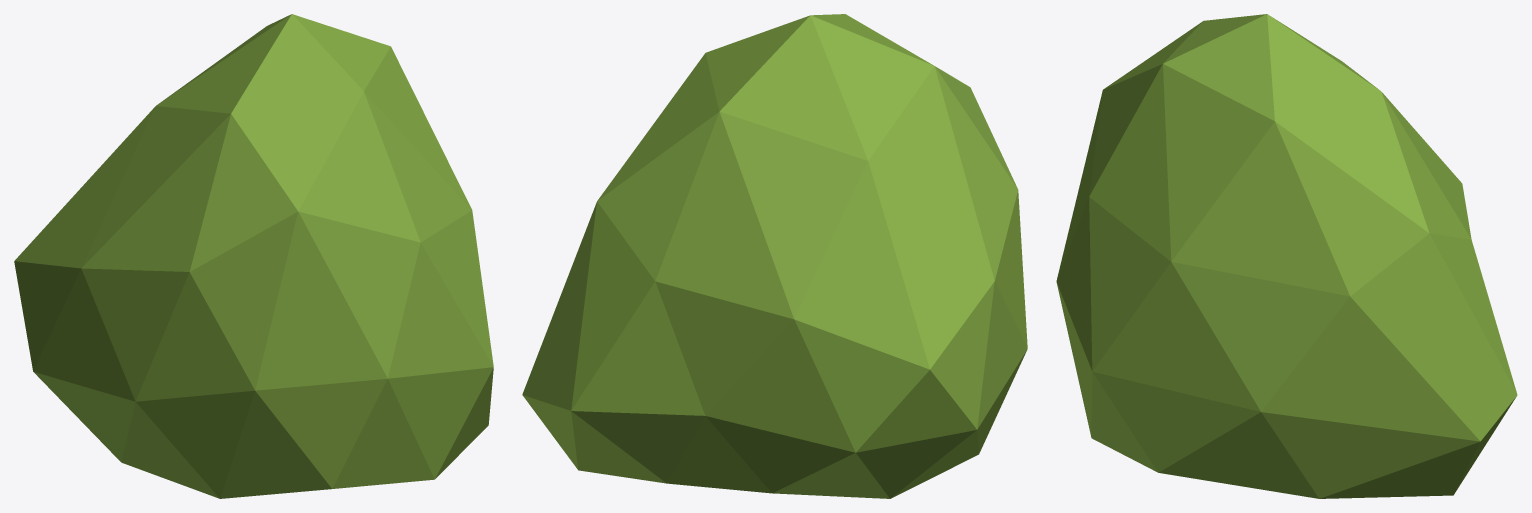
The model's file is Bush_01.fbx.
3 views of the same model, side by side, from view 1: azimuth 30°, elevation 25°; view 2: azimuth 150°, elevation 25°; view 3: azimuth 270°, elevation 25° (orthographic). The views are drawn at different scales.
Visible parts, largest first — view 1: Bush_01; view 2: Bush_01; view 3: Bush_01.
Boxes of the visible parts, x1,y1,x2,y2 form: Bush_01: (14, 14, 493, 498); Bush_01: (522, 14, 1027, 498); Bush_01: (1056, 14, 1517, 498).
Size of the model in its own units: 68.2 by 70.78 by 70.53.
